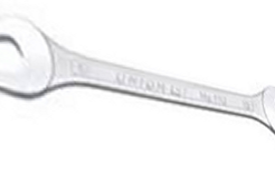Wrench: (1, 6, 275, 145)
